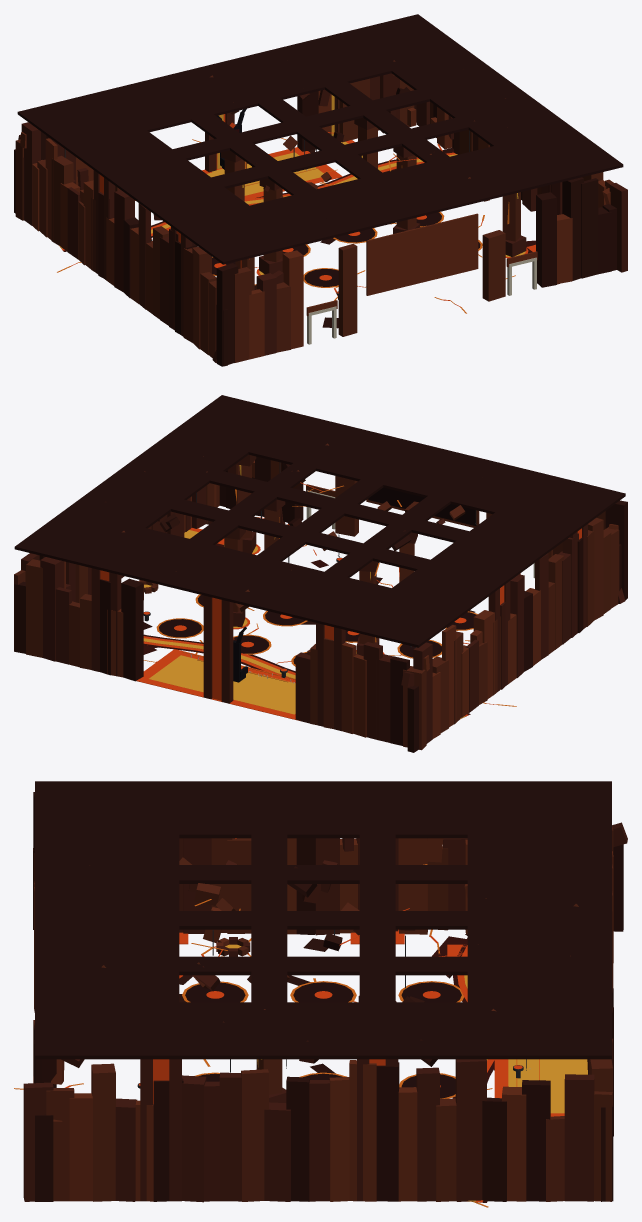
The model's file is lb_bake_hell.glb.
3 renders of one model, top to bottom at view 1: azimuth 30°, elevation 25°; view 2: azimuth 150°, elevation 25°; view 3: azimuth 270°, elevation 25°, orthographic. The views are drawn at different scales.
Bounding box in the file's own units: 78.91 × 19.08 × 68.1.
